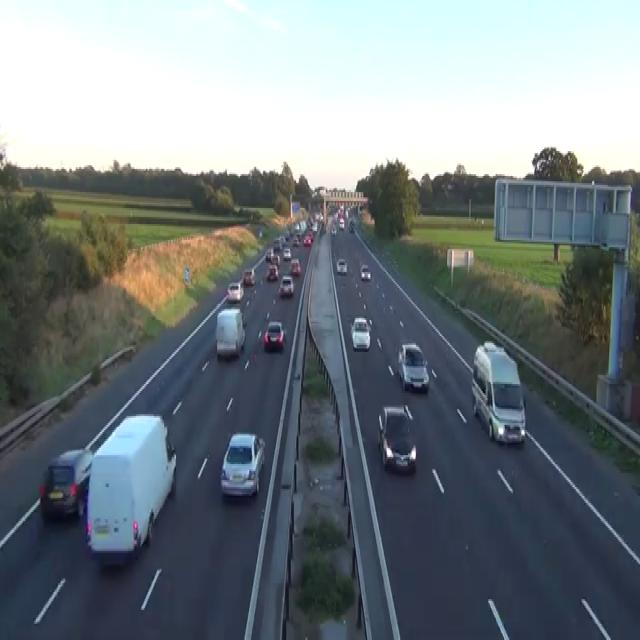Car: (38, 446, 93, 521), (220, 432, 265, 498), (377, 403, 416, 473), (397, 341, 429, 393), (215, 308, 246, 358), (351, 316, 370, 351), (263, 320, 284, 350), (278, 274, 294, 297), (226, 281, 243, 300), (243, 267, 255, 286), (266, 263, 278, 281), (290, 258, 301, 276), (360, 263, 371, 279), (336, 258, 347, 274), (270, 252, 280, 266), (282, 246, 291, 260), (265, 247, 273, 261), (273, 237, 281, 250), (348, 219, 354, 233), (303, 235, 311, 245), (307, 229, 314, 240), (292, 235, 299, 245), (330, 224, 336, 235), (311, 222, 317, 233), (389, 304, 396, 313), (338, 219, 344, 229), (258, 230, 262, 237)
Truck: (84, 413, 176, 567), (471, 340, 525, 444)
